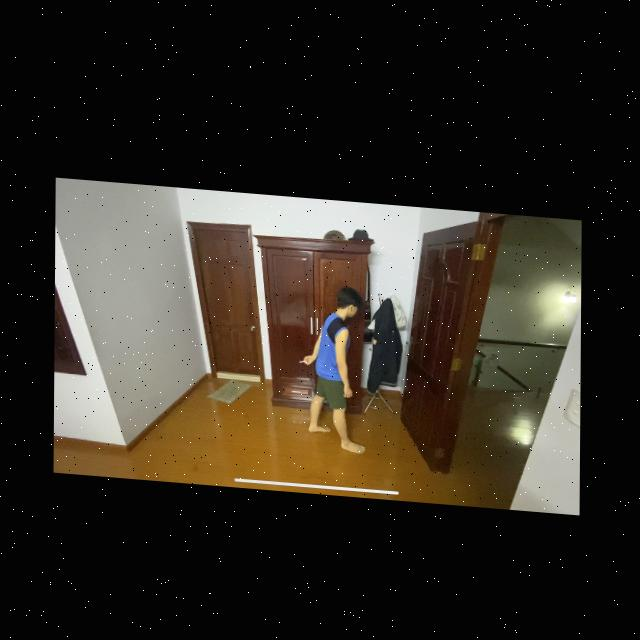cigarette: (300, 354, 307, 357)
